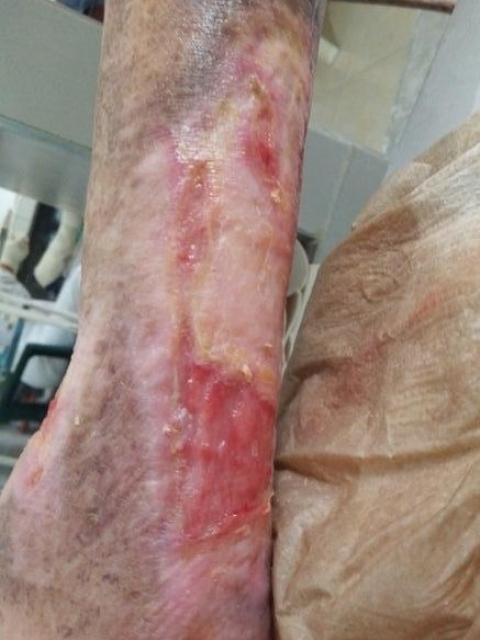wound: (163, 158, 277, 560), (244, 72, 292, 207)
